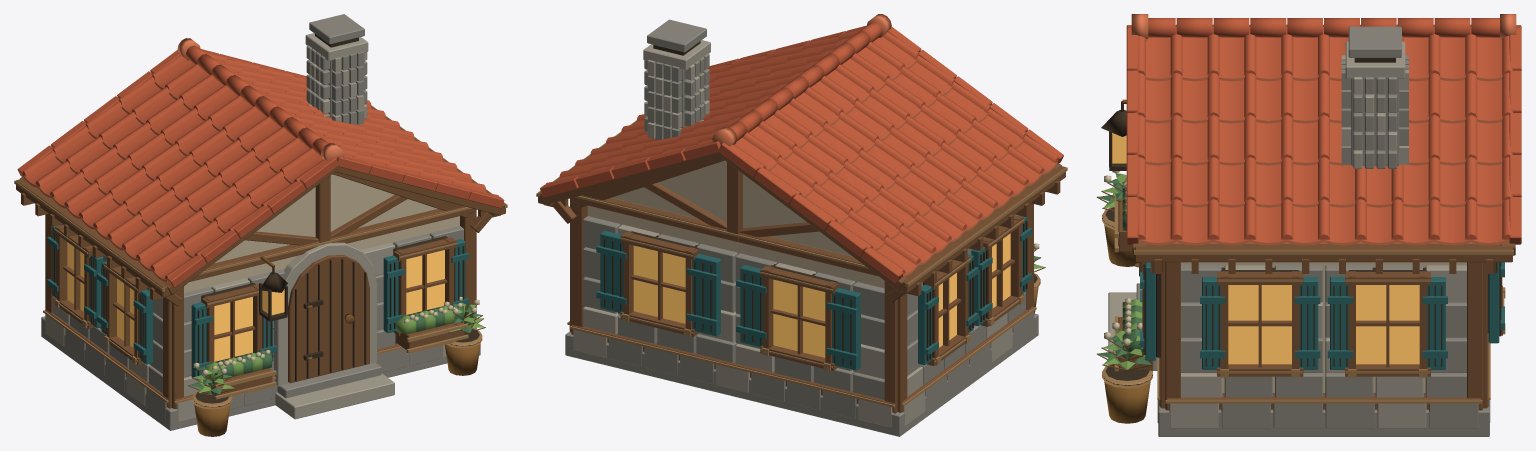
The picture shows the model from 3 angles, left to right: view 1: azimuth 30°, elevation 25°; view 2: azimuth 150°, elevation 25°; view 3: azimuth 270°, elevation 25°; orthographic projection. The views are drawn at different scales.
Parts seen in each view (by area): view 1: alpine_villa_1_geometry, alpine_villa_1_geometry ceramic; view 2: alpine_villa_1_geometry, alpine_villa_1_geometry ceramic; view 3: alpine_villa_1_geometry, alpine_villa_1_geometry ceramic.
Part boxes in pixels (bbox=[...]): alpine_villa_1_geometry: bbox=[14, 14, 507, 436]; alpine_villa_1_geometry ceramic: bbox=[17, 38, 504, 287]; alpine_villa_1_geometry: bbox=[536, 19, 1067, 436]; alpine_villa_1_geometry ceramic: bbox=[540, 14, 1063, 282]; alpine_villa_1_geometry: bbox=[1096, 26, 1515, 436]; alpine_villa_1_geometry ceramic: bbox=[1126, 14, 1521, 245].
Bounding box in the file's own units: 0.99 × 0.768 × 0.8157.
